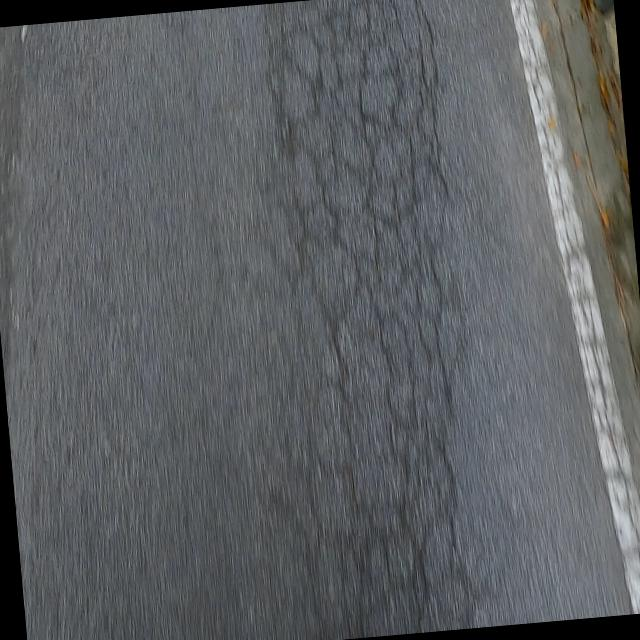Retak-Buaya: (258, 0, 481, 638)
